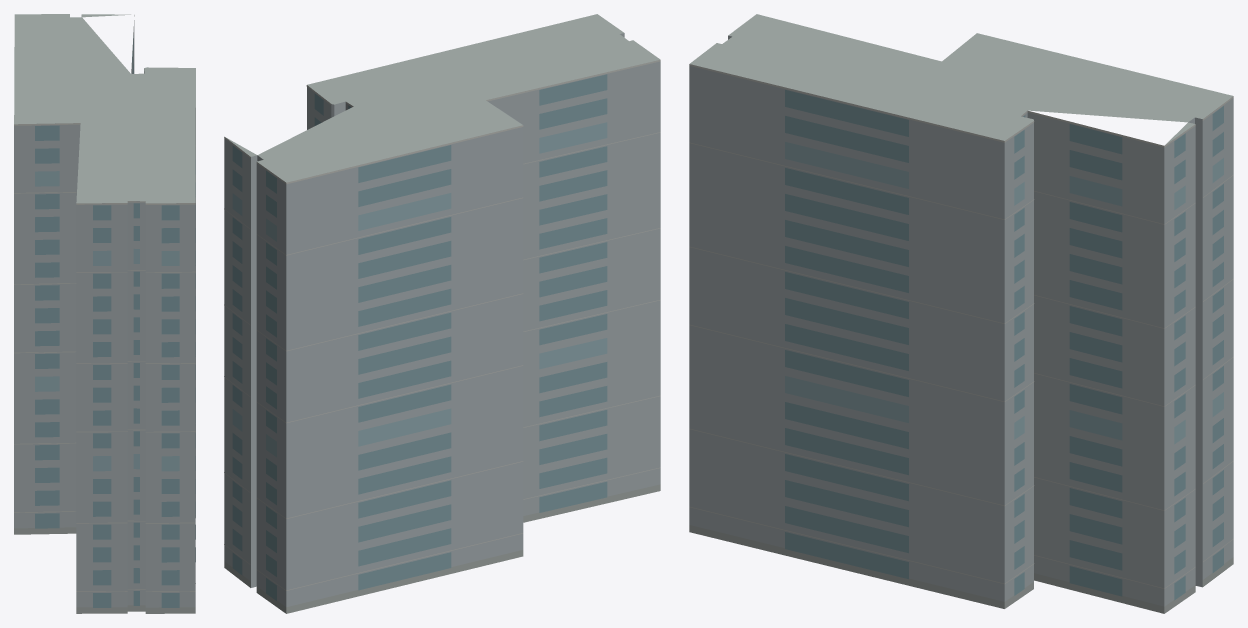
Rendered from survey-upis-33041291.glb.
3 renders of one model, left to right at view 1: azimuth 30°, elevation 25°; view 2: azimuth 150°, elevation 25°; view 3: azimuth 270°, elevation 25°, orthographic. The views are drawn at different scales.
Visible parts, largest first — view 1: survey-upis-33041291.tmp; view 2: survey-upis-33041291.tmp; view 3: survey-upis-33041291.tmp.
Part boxes in pixels (x1,y1,x2,y2): survey-upis-33041291.tmp: [14, 14, 195, 613]; survey-upis-33041291.tmp: [224, 14, 660, 613]; survey-upis-33041291.tmp: [689, 14, 1233, 613].
Bounding box in the file's own units: 38.23 × 63.3 × 66.71.
